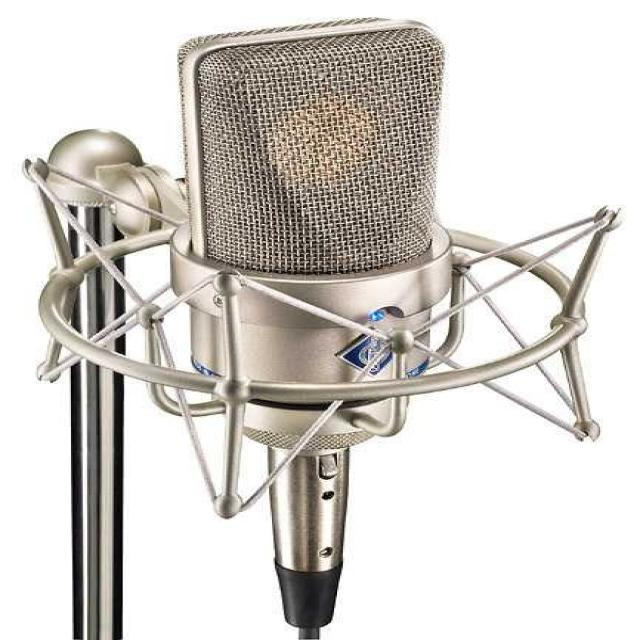microphone: (179, 22, 451, 447)
